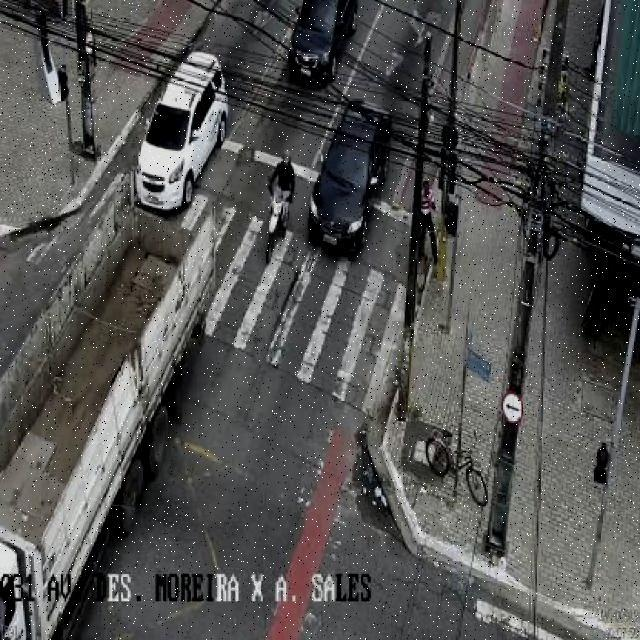Car: (128, 48, 230, 208), (300, 93, 390, 274), (284, 0, 344, 100)
Cycle: (249, 146, 304, 266)
Truck: (0, 206, 216, 640)
